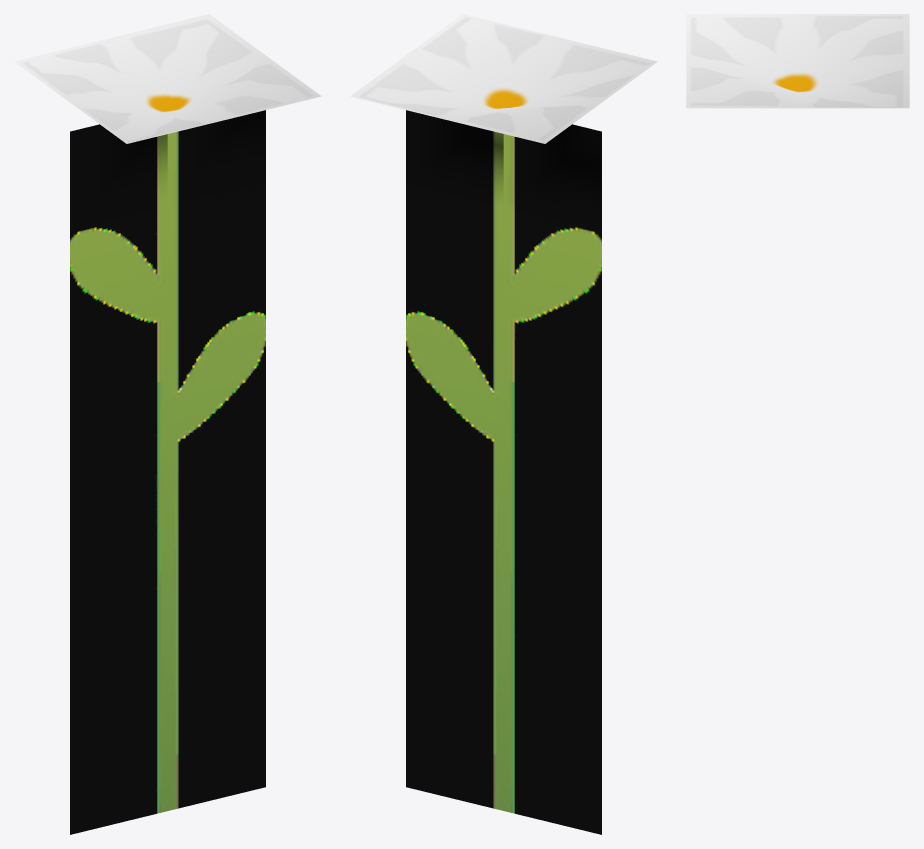
File: Flower_01.fbx
3 views of the same model, side by side, from view 1: azimuth 30°, elevation 25°; view 2: azimuth 150°, elevation 25°; view 3: azimuth 270°, elevation 25° (orthographic).
Visible parts, largest first — view 1: Flower_01; view 2: Flower_01; view 3: Flower_01.
Part boxes in pixels (<box>): Flower_01: <box>14,14,321,834</box>; Flower_01: <box>350,14,657,834</box>; Flower_01: <box>686,14,909,108</box>.
Size of the model in its own units: 0.1053 by 0.376 by 0.1049.
